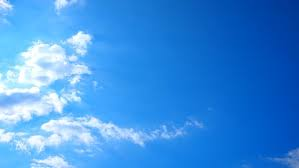sky: (1, 1, 299, 167)
